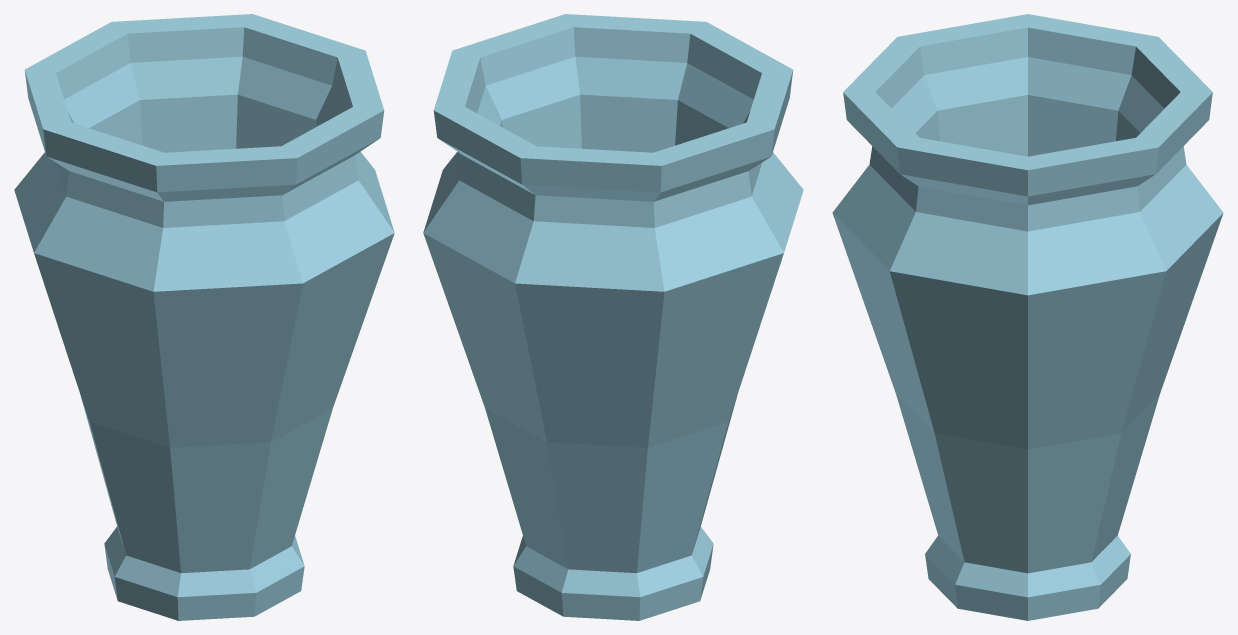
Rendered from Vase.glb.
3 views of the same model, side by side, from view 1: azimuth 30°, elevation 25°; view 2: azimuth 150°, elevation 25°; view 3: azimuth 270°, elevation 25° (orthographic).
Parts seen in each view (by area): view 1: Vase; view 2: Vase; view 3: Vase.
Boxes of the visible parts, box(x1,y1,x2,y2) form: Vase: box(14, 14, 394, 620); Vase: box(423, 14, 803, 620); Vase: box(832, 14, 1223, 620).
Bounding box in the file's own units: 0.2286 × 0.3138 × 0.2286.
